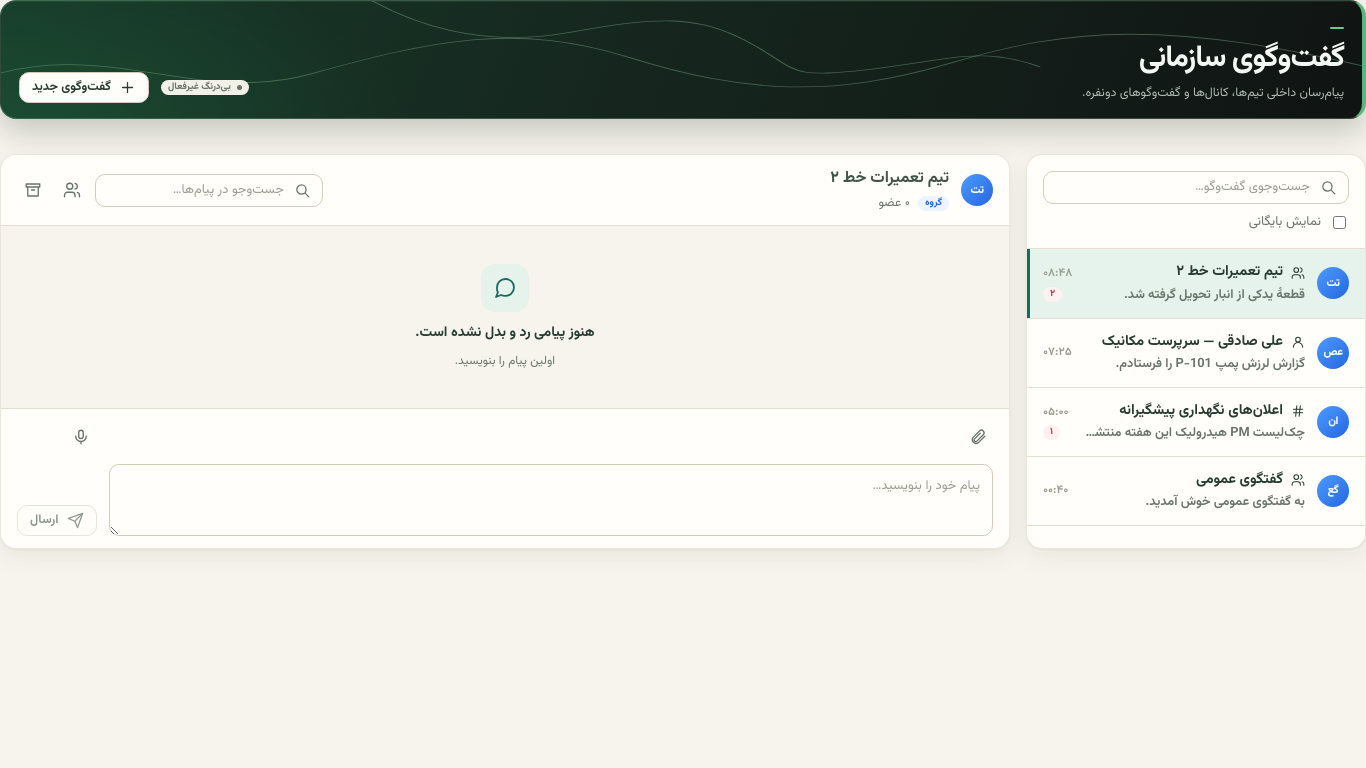
Scenario: chat page › opens the new-conversation dialog with direct, group and channel options
Click the button "گفت‌وگوی جدید".
click(84, 88)  # box [19,72,149,103]
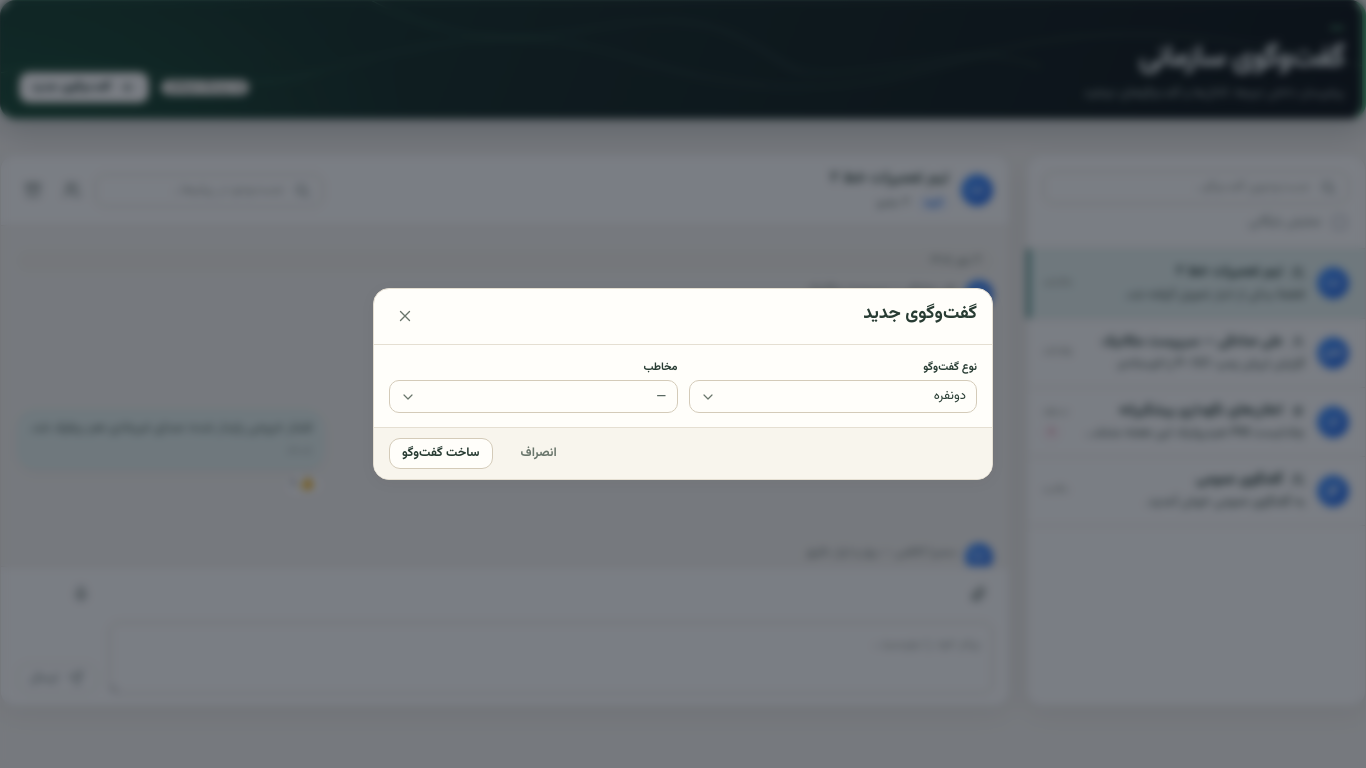
Select "کانال" in the dropdown labelled "نوع گفت‌وگو" at point(833, 396), box [688,380,977,413]
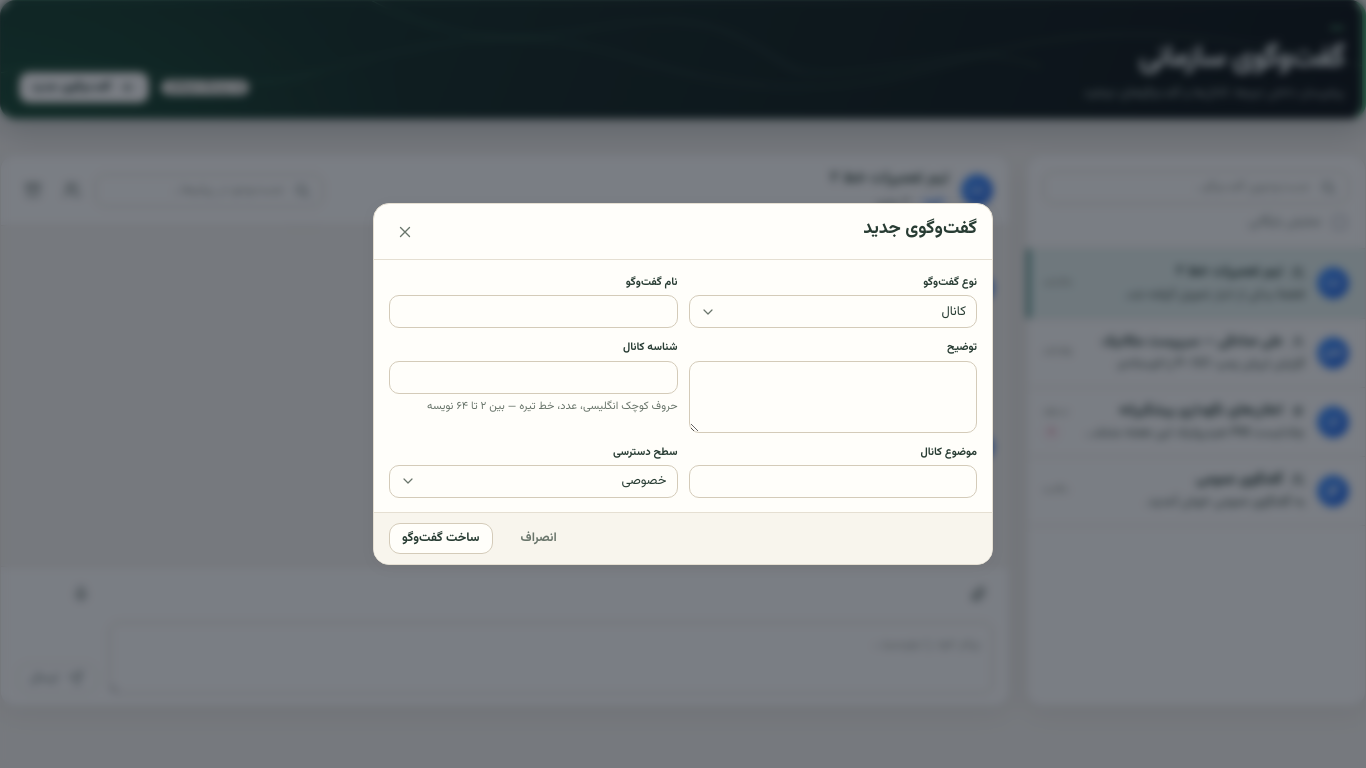
Expected: the field labelled "شناسه کانال" is shown, [389,360,678,394]
Expected: the dropdown labelled "سطح دسترسی" is shown, [389,465,678,498]
